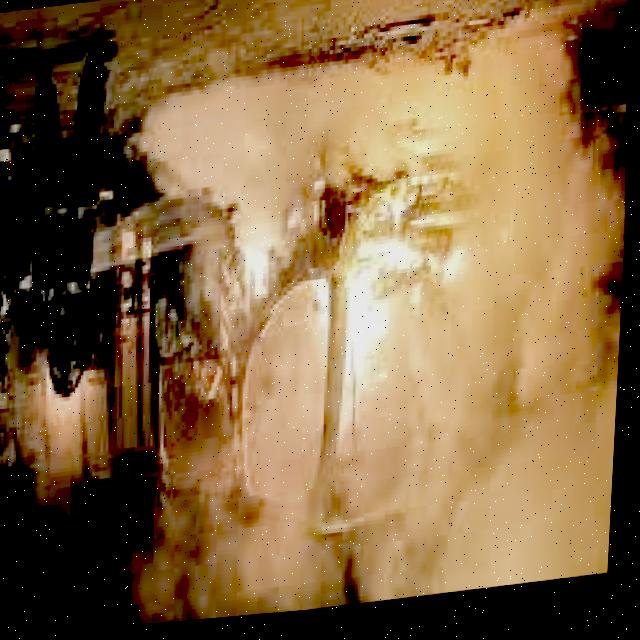Fire: (308, 220, 400, 444)
Smoke: (371, 59, 636, 609), (135, 40, 581, 253)
